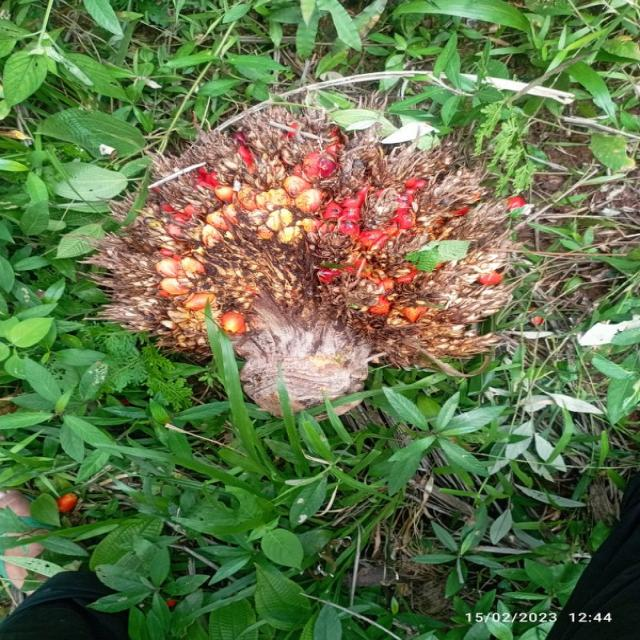fraksi 4: (81, 67, 503, 399)
